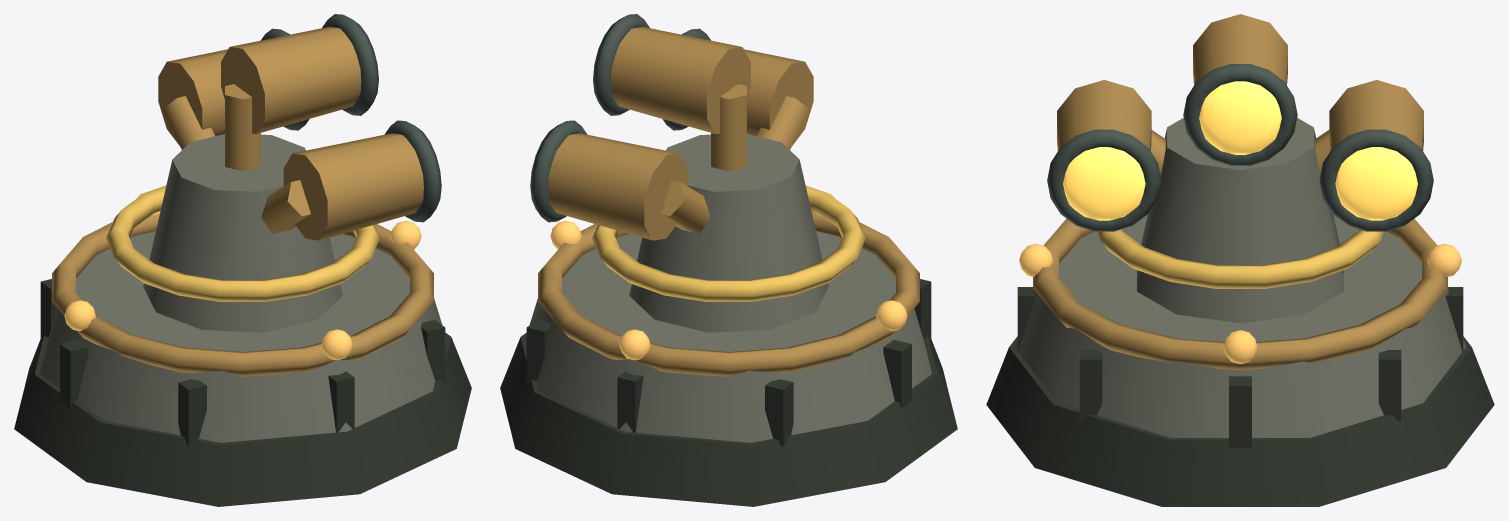
Rendered from tower_laser_laserDouble_ultimate.glb.
The picture shows the model from 3 angles, left to right: view 1: azimuth 30°, elevation 25°; view 2: azimuth 150°, elevation 25°; view 3: azimuth 270°, elevation 25°; orthographic projection. The views are drawn at different scales.
Visible parts, largest first — view 1: stone_1, foot_0, column_15, rim_2, lens_housing_17, lens_housing_21, energized_base_28, lens_housing_25, lens_arm_20, focus_ring_18, focus_ring_22, lens_arm_16 (+9 smaller); view 2: stone_1, foot_0, column_15, rim_2, lens_housing_25, lens_housing_21, energized_base_28, lens_housing_17, lens_arm_20, focus_ring_26, focus_ring_22, lens_arm_24 (+9 smaller); view 3: stone_1, foot_0, column_15, rim_2, energized_base_28, lens_glass_23, lens_glass_19, lens_glass_27, focus_ring_18, focus_ring_26, focus_ring_22, lens_housing_17 (+10 smaller).
Part boxes in pixels (x1=…): stone_1: x1=40, y1=231, x2=445, y2=442; foot_0: x1=14, y1=332, x2=471, y2=506; column_15: x1=143, y1=134, x2=342, y2=332; rim_2: x1=52, y1=214, x2=433, y2=376; lens_housing_17: x1=283, y1=133, x2=423, y2=240; lens_housing_21: x1=221, y1=27, x2=361, y2=133; energized_base_28: x1=106, y1=185, x2=379, y2=301; lens_housing_25: x1=158, y1=49, x2=227, y2=145; lens_arm_20: x1=225, y1=84, x2=260, y2=171; focus_ring_18: x1=384, y1=120, x2=441, y2=222; focus_ring_22: x1=322, y1=14, x2=378, y2=115; lens_arm_16: x1=261, y1=180, x2=310, y2=233; stone_1: x1=526, y1=231, x2=931, y2=442; foot_0: x1=500, y1=332, x2=957, y2=506; column_15: x1=629, y1=134, x2=828, y2=332; rim_2: x1=538, y1=214, x2=919, y2=376; lens_housing_25: x1=548, y1=133, x2=688, y2=240; lens_housing_21: x1=610, y1=27, x2=750, y2=133; energized_base_28: x1=592, y1=185, x2=865, y2=301; lens_housing_17: x1=744, y1=49, x2=813, y2=145; lens_arm_20: x1=711, y1=84, x2=746, y2=171; focus_ring_26: x1=530, y1=120, x2=587, y2=222; focus_ring_22: x1=593, y1=14, x2=649, y2=115; lens_arm_24: x1=661, y1=180, x2=710, y2=233; stone_1: x1=1015, y1=214, x2=1465, y2=437; foot_0: x1=986, y1=336, x2=1494, y2=506; column_15: x1=1137, y1=117, x2=1343, y2=323; rim_2: x1=1033, y1=219, x2=1447, y2=370; energized_base_28: x1=1097, y1=229, x2=1383, y2=288; lens_glass_23: x1=1199, y1=81, x2=1281, y2=154; lens_glass_19: x1=1063, y1=147, x2=1145, y2=220; lens_glass_27: x1=1335, y1=147, x2=1417, y2=220; focus_ring_18: x1=1047, y1=129, x2=1161, y2=231; focus_ring_26: x1=1319, y1=129, x2=1433, y2=231; focus_ring_22: x1=1183, y1=64, x2=1297, y2=165; lens_housing_17: x1=1057, y1=80, x2=1151, y2=150.
Size of the model in its own units: 0.5326 by 0.482 by 0.56.
